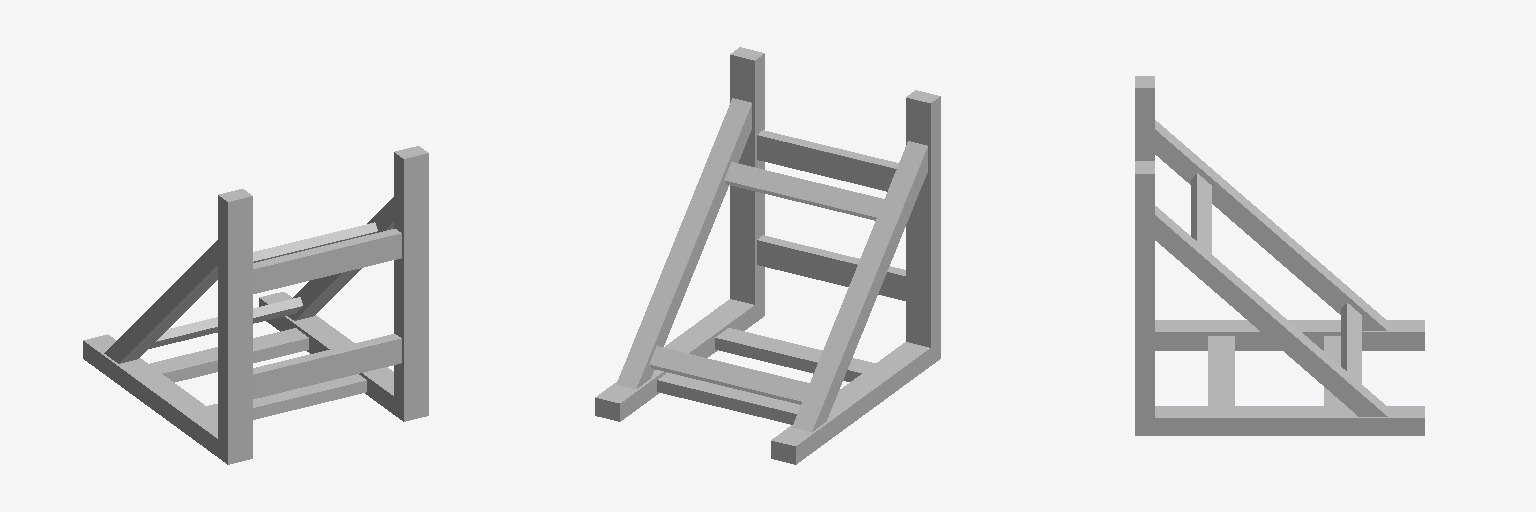
File: woodsupportudz+.obj
The picture shows the model from 3 angles: view 1: azimuth 30°, elevation 25°; view 2: azimuth 150°, elevation 25°; view 3: azimuth 270°, elevation 25°; orthographic projection.
Parts seen in each view (by area): view 1: bedx+; view 2: bedx+; view 3: bedx+.
Boxes of the visible parts, box(x1,y1,x2,y2) form: bedx+: box(83, 146, 428, 464); bedx+: box(595, 47, 940, 464); bedx+: box(1135, 76, 1424, 435).
Size of the model in its own units: 0.8 by 1 by 1.